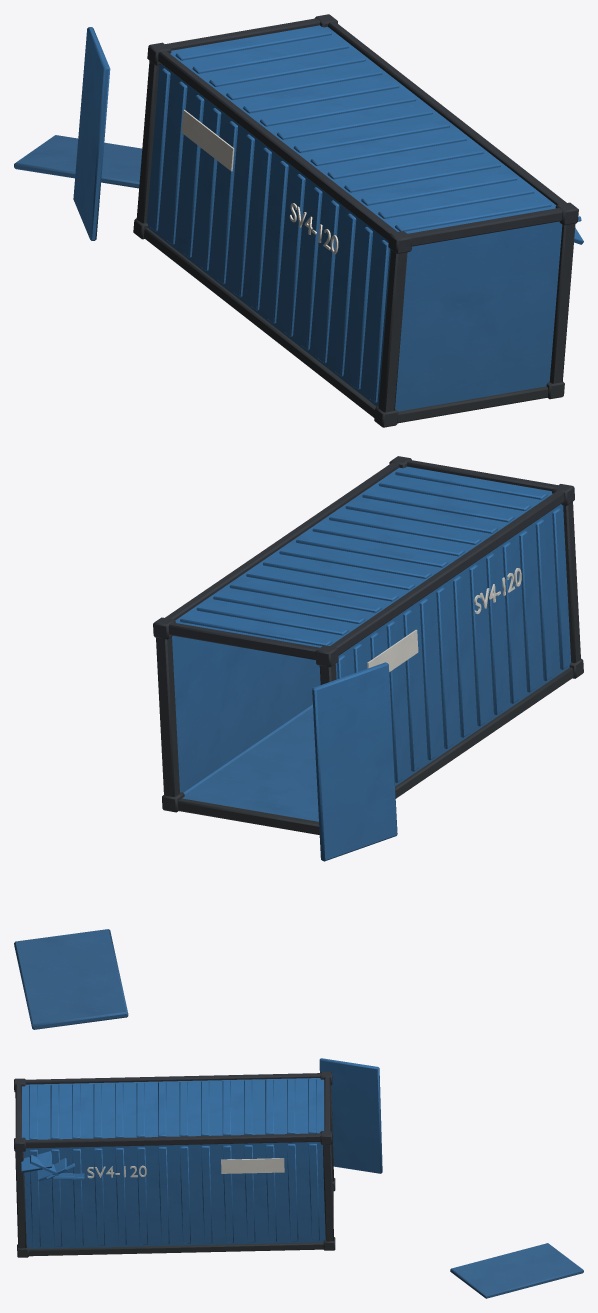
Rendered from sv04_container_blue.glb.
3 views of the same model, one above another, from view 1: azimuth 30°, elevation 25°; view 2: azimuth 150°, elevation 25°; view 3: azimuth 270°, elevation 25° (orthographic). The views are drawn at different scales.
Visible parts, largest first — view 1: sv04_container_blue; view 2: sv04_container_blue; view 3: sv04_container_blue.
Part boxes in pixels (bbox=[...]): sv04_container_blue: bbox=[14, 14, 583, 427]; sv04_container_blue: bbox=[14, 456, 583, 1029]; sv04_container_blue: bbox=[14, 1058, 583, 1298].
Size of what is drawn, in the model's own units: 3.68 by 3.55 by 10.82.
8 materials, 8 textured.
